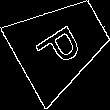P_NE: (32, 16, 90, 73)
